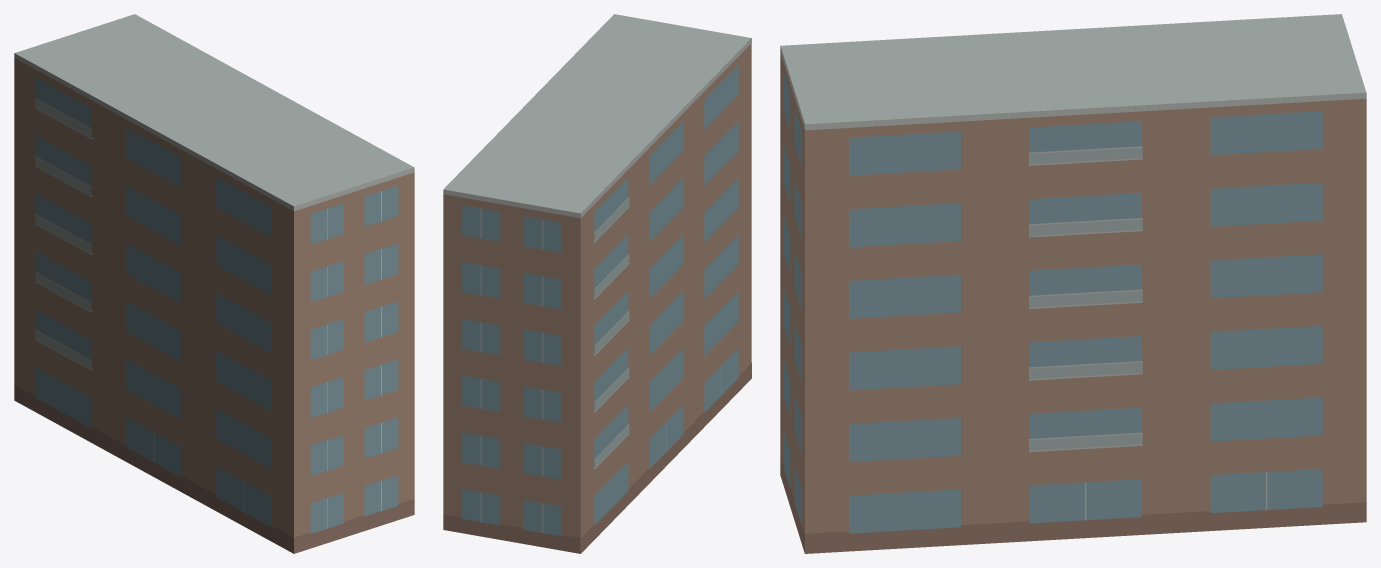
File: survey-upis-32574388.glb
The picture shows the model from 3 angles, left to right: view 1: azimuth 30°, elevation 25°; view 2: azimuth 150°, elevation 25°; view 3: azimuth 270°, elevation 25°; orthographic projection. The views are drawn at different scales.
Parts seen in each view (by area): view 1: survey-upis-32574388.tmp; view 2: survey-upis-32574388.tmp; view 3: survey-upis-32574388.tmp.
Boxes of the visible parts, <box> form: survey-upis-32574388.tmp: <box>14,14,414,553</box>; survey-upis-32574388.tmp: <box>443,14,751,553</box>; survey-upis-32574388.tmp: <box>780,14,1366,553</box>.
Size of the model in its own units: 9.6 by 17.4 by 21.53.
